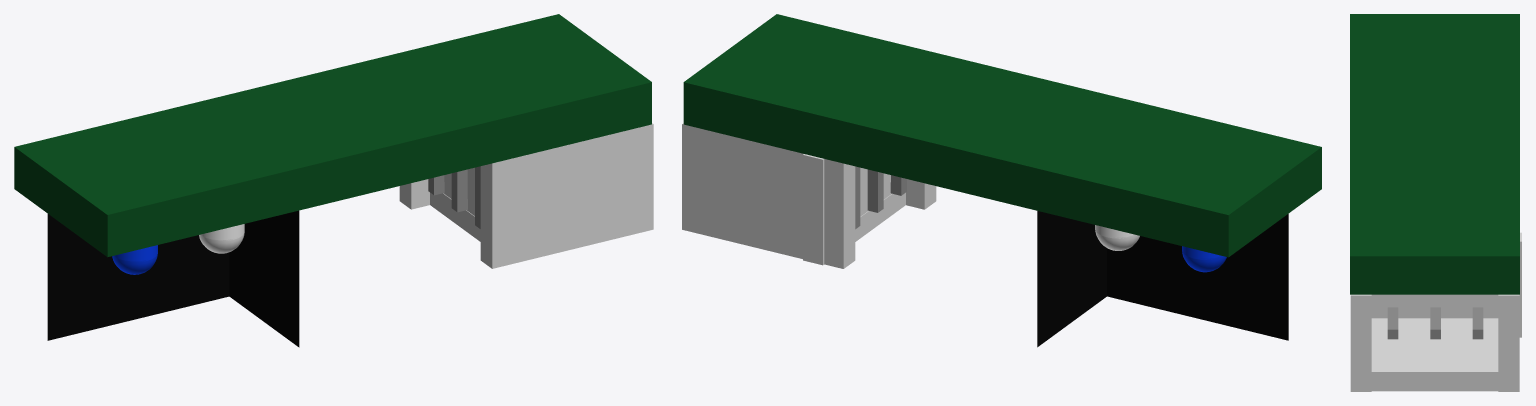
The model's file is Blue_Light_Sensor.fbx.
The picture shows the model from 3 angles, left to right: view 1: azimuth 30°, elevation 25°; view 2: azimuth 150°, elevation 25°; view 3: azimuth 270°, elevation 25°; orthographic projection. The views are drawn at different scales.
Visible parts, largest first — view 1: ROOOO16:pasted__pasted__pasted__pasted__pasted__pCube1, ROOOO16:pasted__pasted__pasted__pCube1, ROOOO16:pasted__pasted__pasted__pasted__pasted__pCube20, ROOOO16:pasted__pasted__pasted__pasted__pasted__pasted__past, ROOOO16:pasted__pasted__pasted__pasted__pasted__pasted__pCub, ROOOO16:pasted__pasted__pasted__pasted__pasted__pCube14; view 2: ROOOO16:pasted__pasted__pasted__pasted__pasted__pCube1, ROOOO16:pasted__pasted__pasted__pCube1, ROOOO16:pasted__pasted__pasted__pasted__pasted__pasted__pCub (×2), ROOOO16:pasted__pasted__pasted__pasted__pasted__pasted__past, ROOOO16:pasted__pasted__pasted__pasted__pasted__pCube20, ROOOO16:pasted__pasted__pasted__pasted__pasted__pCube14; view 3: ROOOO16:pasted__pasted__pasted__pasted__pasted__pCube1, ROOOO16:pasted__pasted__pasted__pasted__pasted__pasted__past, ROOOO16:pasted__pasted__pasted__pasted__pasted__pasted__pCub (×2), ROOOO16:pasted__pasted__pasted__pasted__pasted__pCube20, ROOOO16:pasted__pasted__pasted__pasted__pasted__pCube16, ROOOO16:pasted__pasted__pasted__pasted__pasted__pCube18, ROOOO16:pasted__pasted__pasted__pasted__pasted__pCube17.
Part boxes in pixels (bbox=[...]): ROOOO16:pasted__pasted__pasted__pasted__pasted__pCube1: bbox=[14, 14, 651, 257]; ROOOO16:pasted__pasted__pasted__pCube1: bbox=[47, 210, 299, 347]; ROOOO16:pasted__pasted__pasted__pasted__pasted__pCube20: bbox=[480, 123, 653, 268]; ROOOO16:pasted__pasted__pasted__pasted__pasted__pasted__past: bbox=[430, 192, 480, 241]; ROOOO16:pasted__pasted__pasted__pasted__pasted__pasted__pCub: bbox=[399, 179, 429, 209]; ROOOO16:pasted__pasted__pasted__pasted__pasted__pCube14: bbox=[451, 169, 467, 212]; ROOOO16:pasted__pasted__pasted__pasted__pasted__pCube1: bbox=[683, 14, 1321, 257]; ROOOO16:pasted__pasted__pasted__pCube1: bbox=[1037, 211, 1288, 347]; ROOOO16:pasted__pasted__pasted__pasted__pasted__pasted__pCub (×2): bbox=[682, 123, 891, 268]; ROOOO16:pasted__pasted__pasted__pasted__pasted__pasted__past: bbox=[855, 192, 905, 241]; ROOOO16:pasted__pasted__pasted__pasted__pasted__pCube20: bbox=[906, 179, 936, 209]; ROOOO16:pasted__pasted__pasted__pasted__pasted__pCube14: bbox=[867, 169, 883, 212]; ROOOO16:pasted__pasted__pasted__pasted__pasted__pCube1: bbox=[1350, 14, 1519, 294]; ROOOO16:pasted__pasted__pasted__pasted__pasted__pasted__past: bbox=[1371, 318, 1498, 391]; ROOOO16:pasted__pasted__pasted__pasted__pasted__pasted__pCub (×2): bbox=[1371, 232, 1521, 391]; ROOOO16:pasted__pasted__pasted__pasted__pasted__pCube20: bbox=[1350, 294, 1371, 391]; ROOOO16:pasted__pasted__pasted__pasted__pasted__pCube16: bbox=[1387, 307, 1398, 339]; ROOOO16:pasted__pasted__pasted__pasted__pasted__pCube18: bbox=[1472, 307, 1483, 339]; ROOOO16:pasted__pasted__pasted__pasted__pasted__pCube17: bbox=[1430, 307, 1440, 339].
Size of the model in its own units: 2.71 by 0.9027 by 0.8088.
